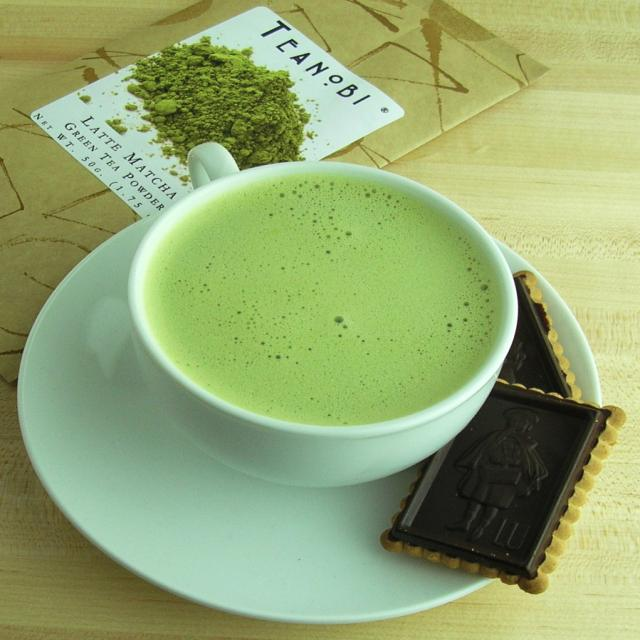Tea: (143, 174, 494, 422)
